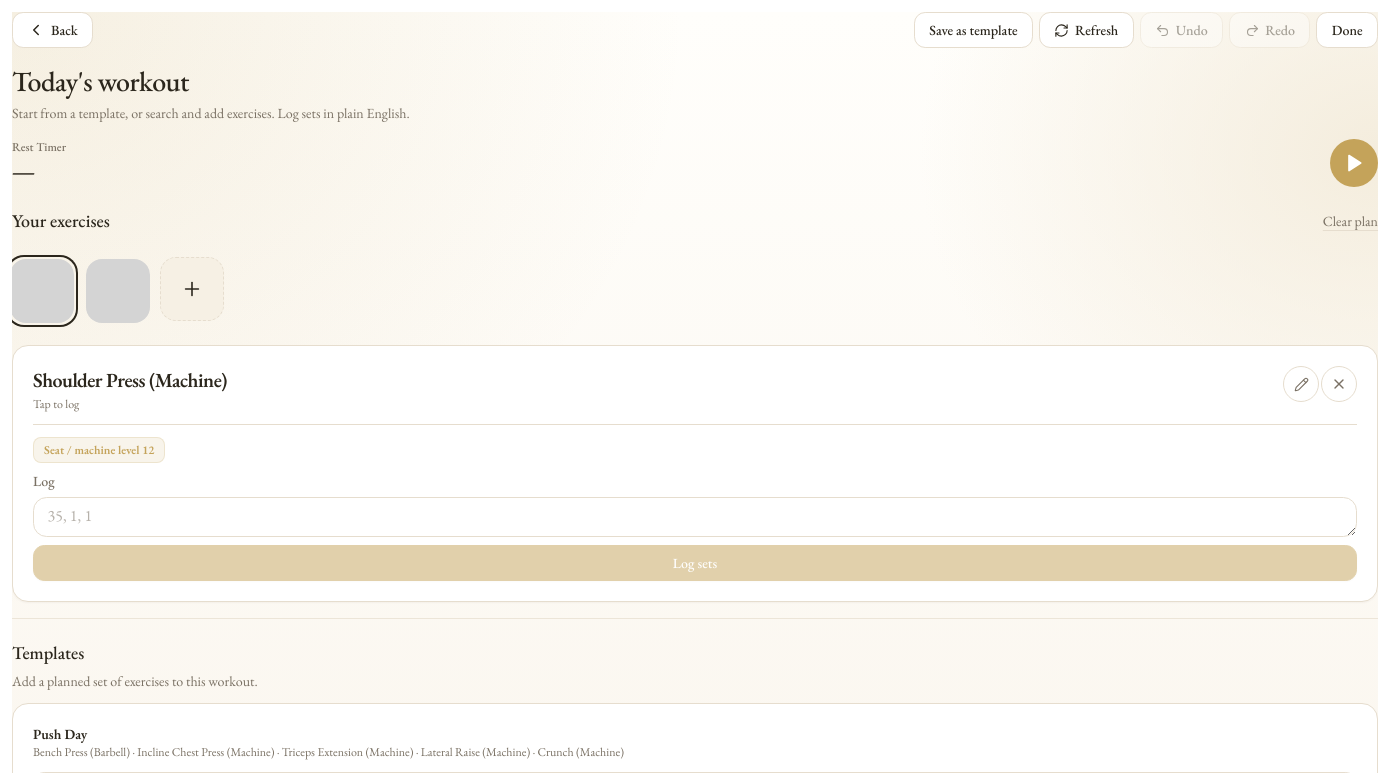
Test case: Session undo/redo and edit › does not promote logged extras into the plan when removing a planned exercise
Click the button named "Remove Shoulder Press (Machine)" at {"x": 1339, "y": 384}, box top-left (1321, 366), bottom-right (1357, 402)
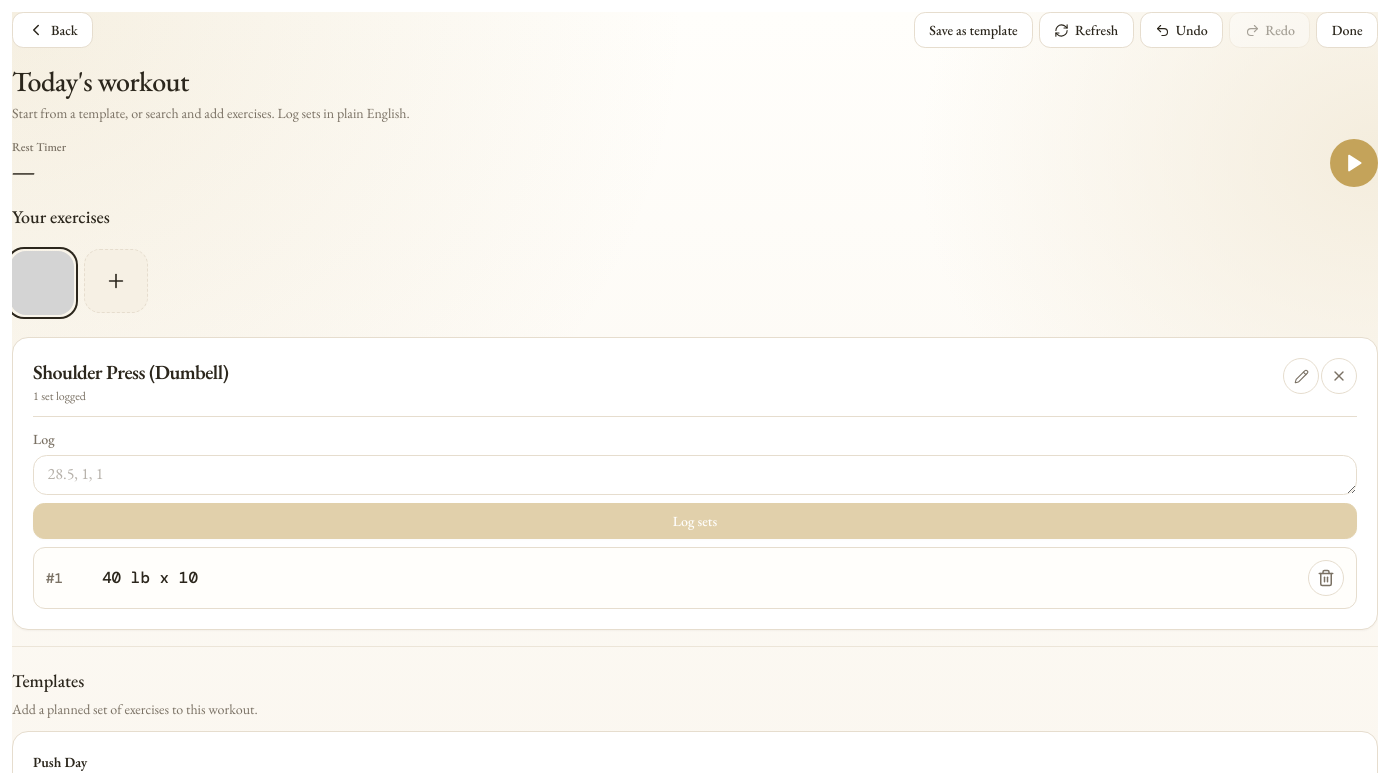
Expected: the text "Shoulder Press (Dumbell)" is shown, top-left (33, 358), bottom-right (228, 386)
